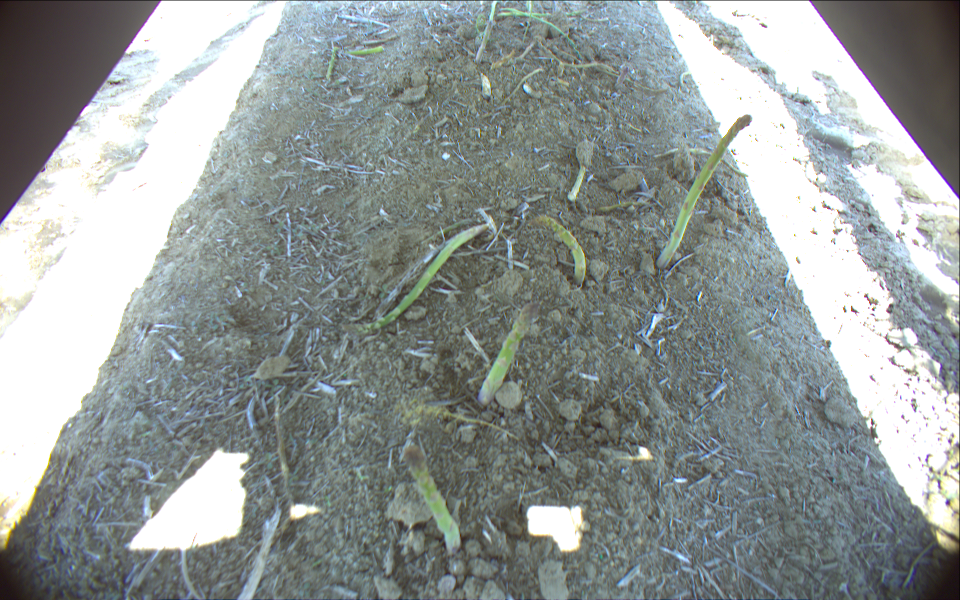aspa: (346, 222, 491, 334), (655, 113, 753, 269), (403, 447, 461, 551), (479, 307, 532, 401), (501, 7, 584, 61), (534, 214, 584, 288), (476, 1, 500, 62), (498, 7, 594, 19), (566, 159, 588, 200), (324, 47, 339, 81), (344, 45, 384, 55)
